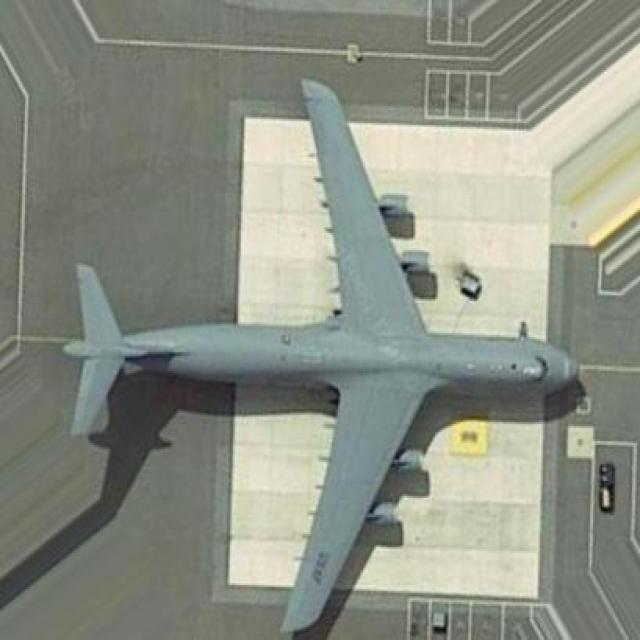C-5_TopDown: (58, 71, 590, 640)
